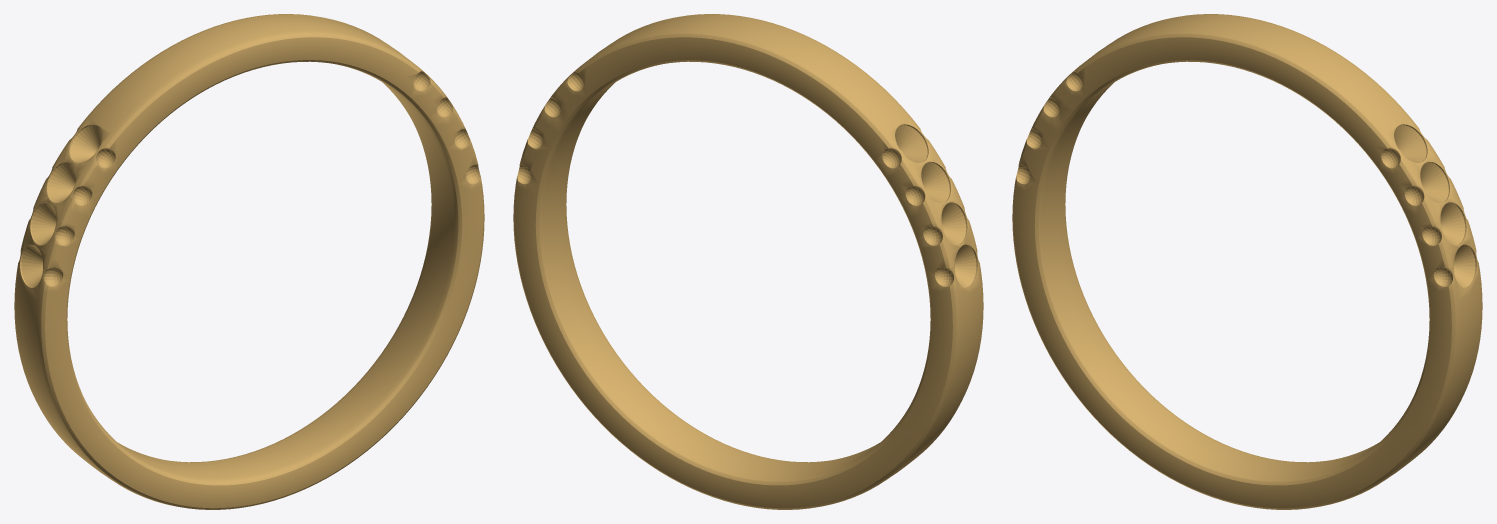
Rendered from soft-square-scalloped-u-cut-head.glb.
3 views of the same model, side by side, from view 1: azimuth 30°, elevation 25°; view 2: azimuth 150°, elevation 25°; view 3: azimuth 330°, elevation 25° (orthographic).
Parts seen in each view (by area): view 1: Band; view 2: Band; view 3: Band.
Boxes of the visible parts, x1,y1,x2,y2 form: Band: [14, 14, 484, 509]; Band: [513, 14, 983, 509]; Band: [1012, 14, 1482, 509].
Size of the model in its own units: 19.6 by 19.6 by 2.3.
